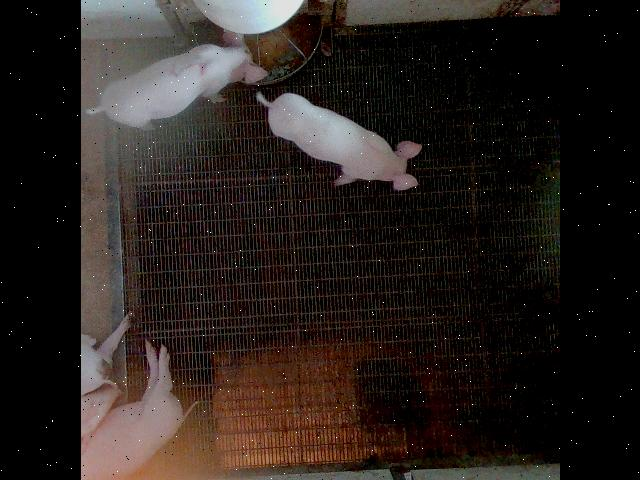pig-5: (87, 31, 266, 128)
